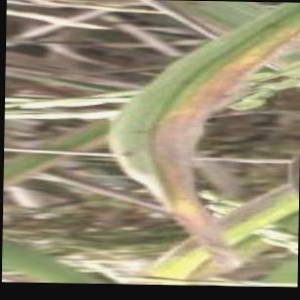Leaf_Blast: (113, 50, 213, 210)
